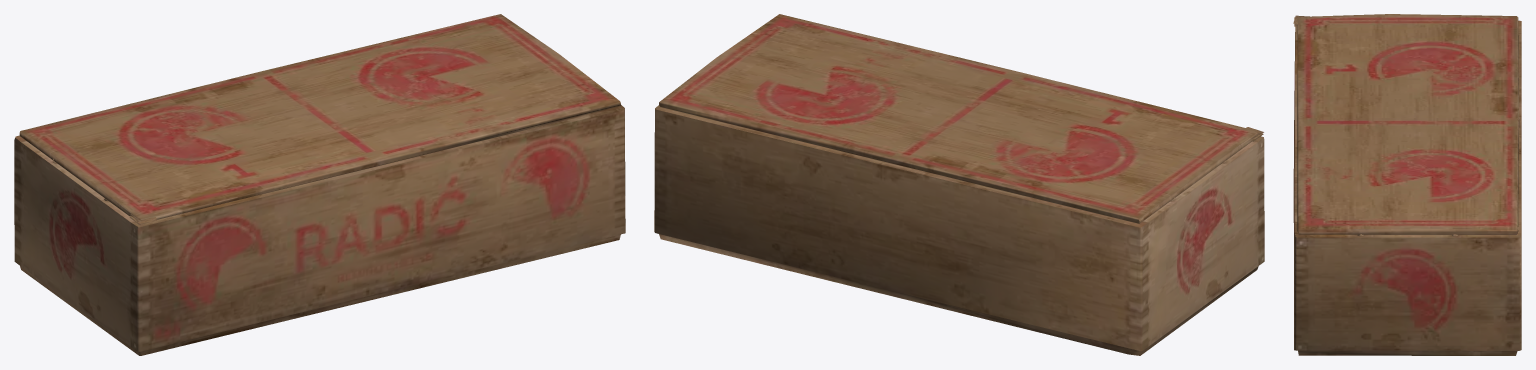
Rendered from CheeseBox_01.glb.
The picture shows the model from 3 angles, left to right: view 1: azimuth 30°, elevation 25°; view 2: azimuth 150°, elevation 25°; view 3: azimuth 270°, elevation 25°; orthographic projection. The views are drawn at different scales.
Parts seen in each view (by area): view 1: CheeseBox_01; view 2: CheeseBox_01; view 3: CheeseBox_01.
Part boxes in pixels (bbox=[...]): CheeseBox_01: bbox=[14, 14, 625, 355]; CheeseBox_01: bbox=[654, 14, 1264, 355]; CheeseBox_01: bbox=[1293, 14, 1521, 355].
Size of the model in its own units: 0.2402 by 0.066 by 0.1065.
1 material, 1 textured.
